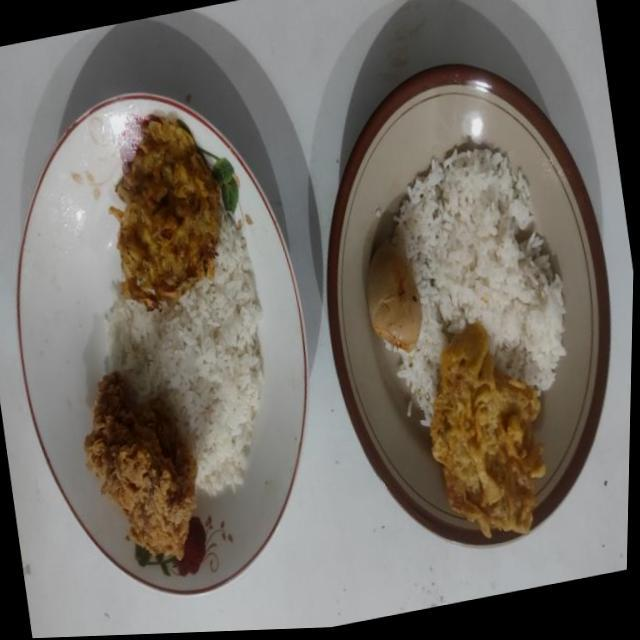nasi_putih: (393, 148, 566, 418), (108, 212, 264, 496)
